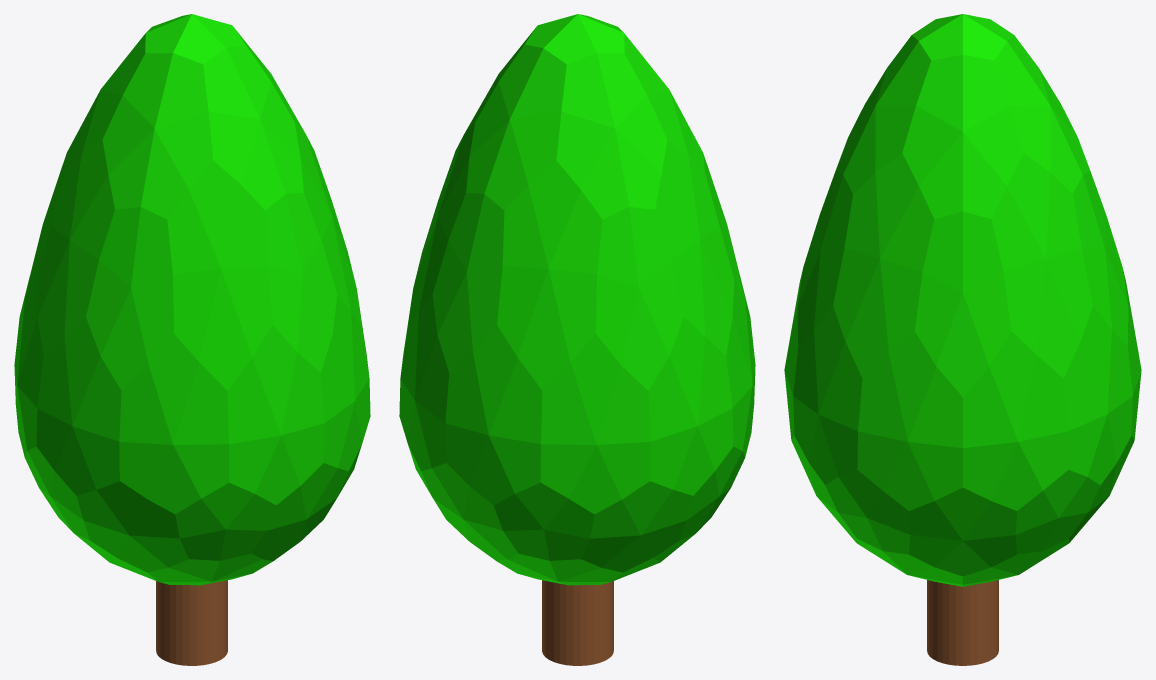
Rendered from arbol.fbx.
The picture shows the model from 3 angles, left to right: view 1: azimuth 30°, elevation 25°; view 2: azimuth 150°, elevation 25°; view 3: azimuth 270°, elevation 25°; orthographic projection.
Parts seen in each view (by area): view 1: Cylinder; view 2: Cylinder; view 3: Cylinder.
Part boxes in pixels (x1,y1,x2,y2): Cylinder: (14,14,370,665); Cylinder: (399,14,755,665); Cylinder: (784,14,1141,665).
Bounding box in the file's own units: 129 × 253 × 129.
